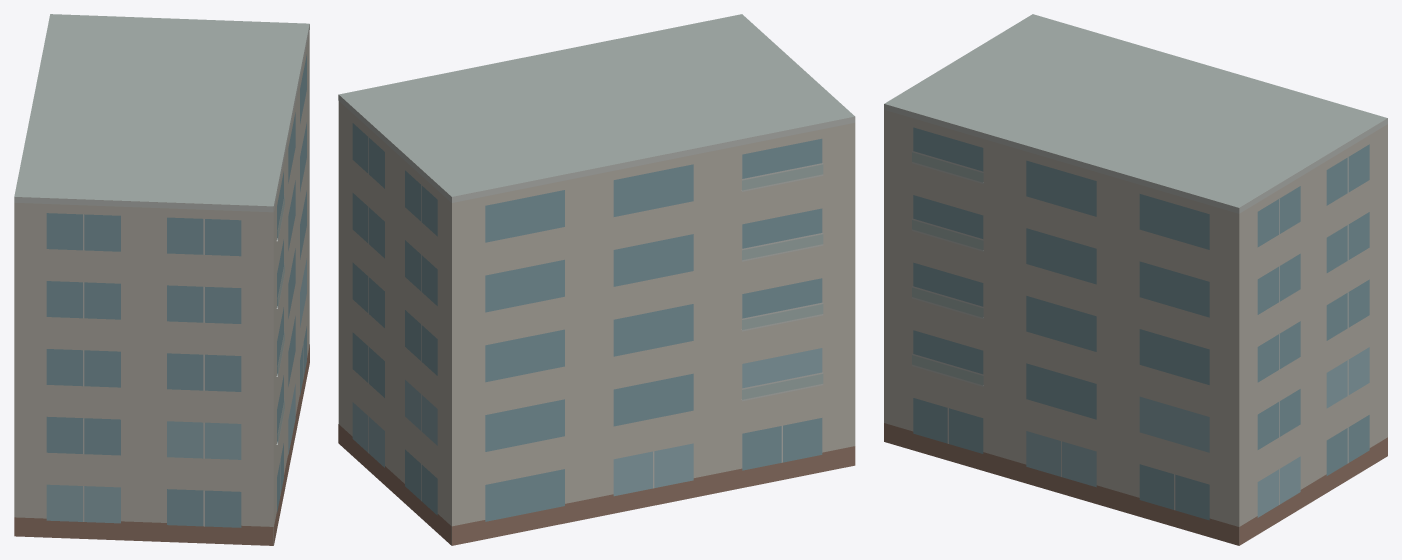
The model's file is survey-upis-32618155.glb.
3 views of the same model, side by side, from view 1: azimuth 30°, elevation 25°; view 2: azimuth 150°, elevation 25°; view 3: azimuth 270°, elevation 25° (orthographic). The views are drawn at different scales.
Visible parts, largest first — view 1: survey-upis-32618155.tmp; view 2: survey-upis-32618155.tmp; view 3: survey-upis-32618155.tmp.
Part boxes in pixels (<box>): survey-upis-32618155.tmp: <box>14,14,309,545</box>; survey-upis-32618155.tmp: <box>338,14,855,545</box>; survey-upis-32618155.tmp: <box>884,14,1387,545</box>.
Size of the model in its own units: 17.11 by 13.9 by 18.78.
